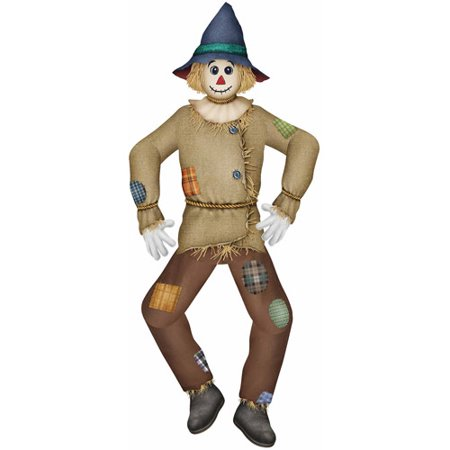person-like: (126, 1, 323, 450)
